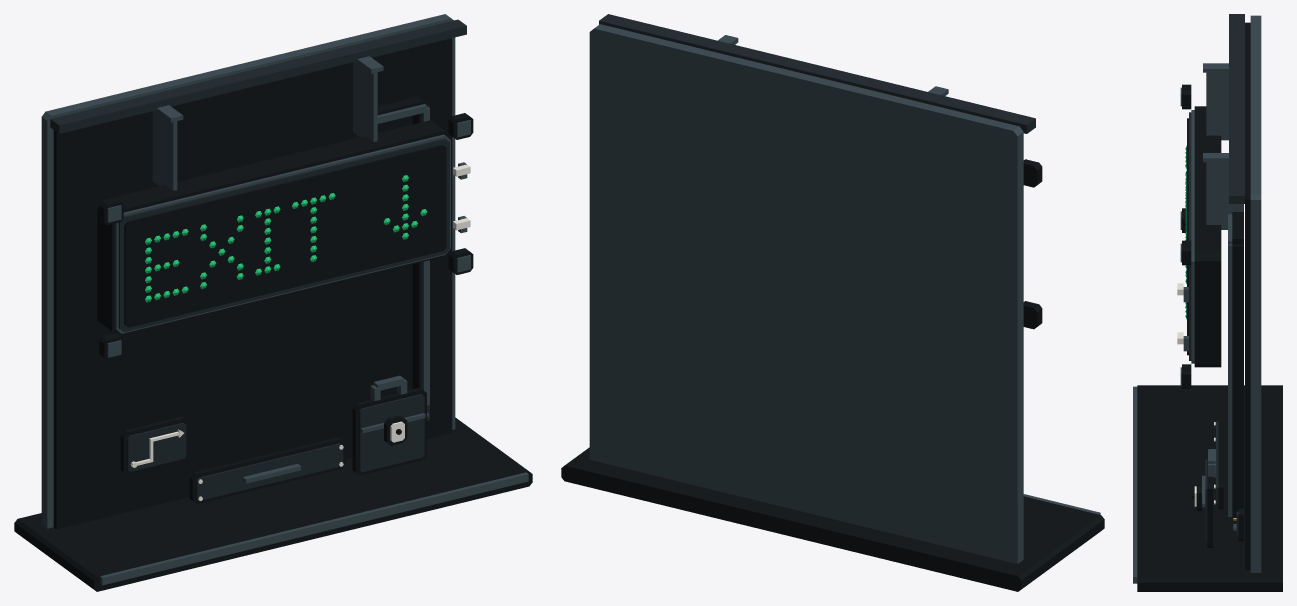
The picture shows the model from 3 angles, left to right: view 1: azimuth 30°, elevation 25°; view 2: azimuth 150°, elevation 25°; view 3: azimuth 270°, elevation 25°; orthographic projection. The views are drawn at different scales.
Visible parts, largest first — view 1: Exit Liquidity sign; view 2: Exit Liquidity sign; view 3: Exit Liquidity sign.
Part boxes in pixels (x1=…): Exit Liquidity sign: x1=14, y1=14, x2=532, y2=591; Exit Liquidity sign: x1=561, y1=14, x2=1104, y2=591; Exit Liquidity sign: x1=1133, y1=14, x2=1282, y2=591.
Bounding box in the file's own units: 1.08 × 1 × 0.3475.
